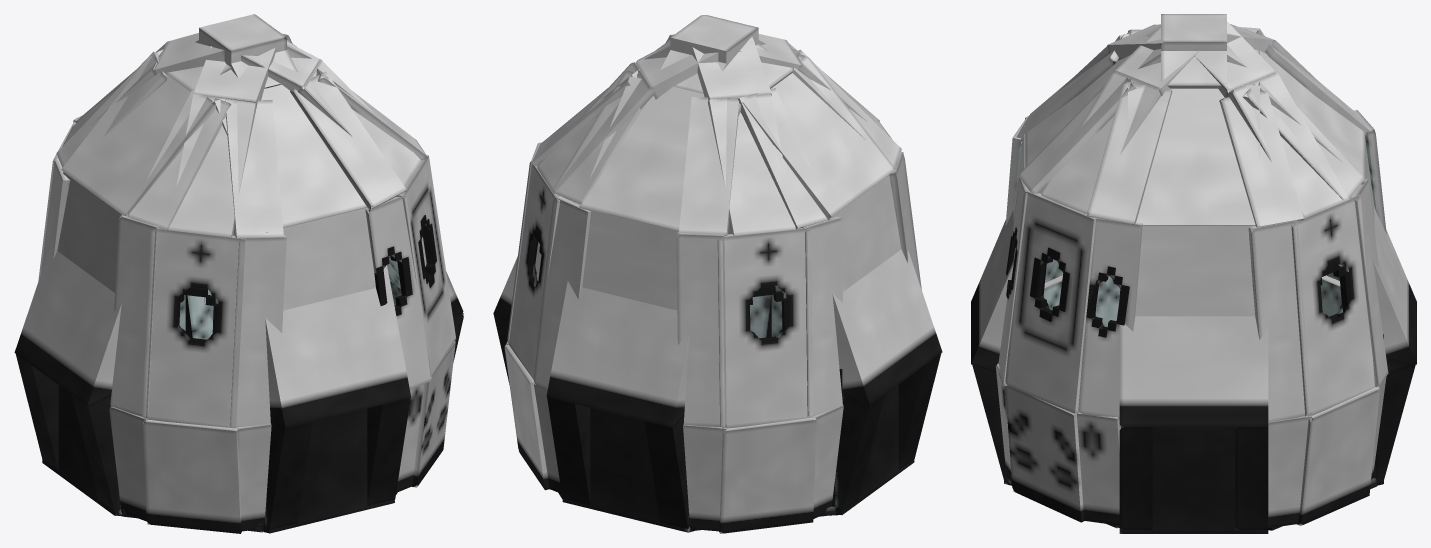
File: dragon.obj
The picture shows the model from 3 angles, left to right: view 1: azimuth 30°, elevation 25°; view 2: azimuth 150°, elevation 25°; view 3: azimuth 270°, elevation 25°; orthographic projection. The views are drawn at different scales.
Visible parts, largest first — view 1: Rocket; view 2: Rocket; view 3: Rocket.
Boxes of the visible parts, x1,y1,x2,y2 form: Rocket: (14, 14, 463, 533); Rocket: (493, 15, 942, 533); Rocket: (971, 14, 1416, 533).
Size of the model in its own units: 3.38 by 3.8 by 3.38.
